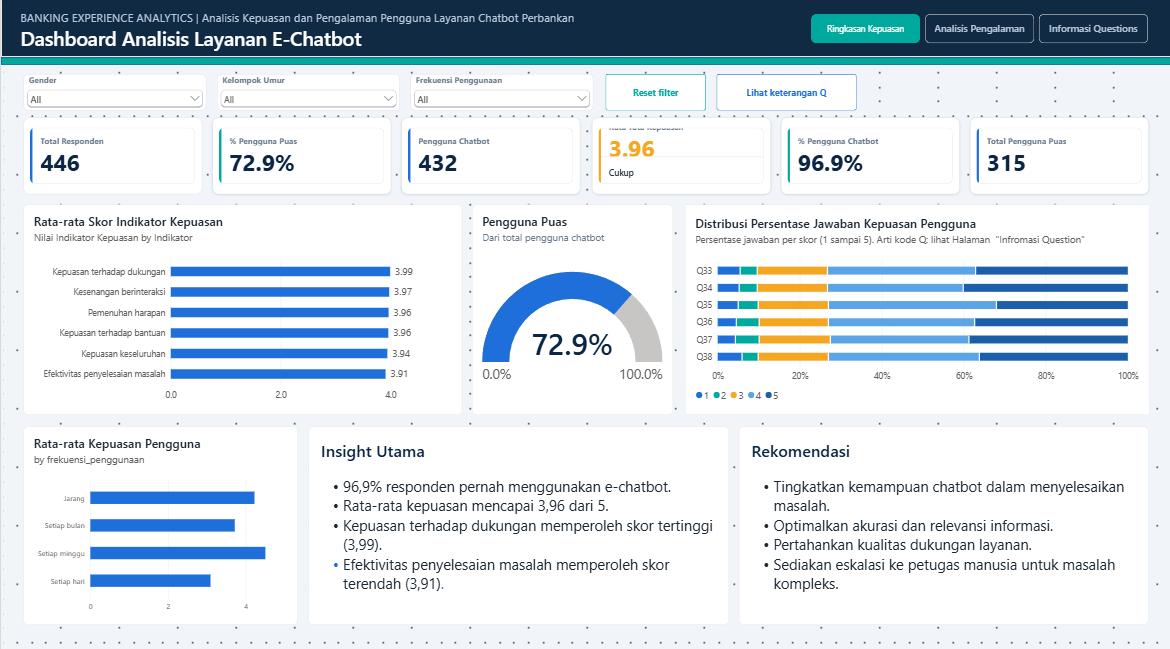

The dashboard page shown, as its layout file describes it:
{"tool":"powerbi","page":{"name":"Ringkasan Kepuasan","canvas":[1920,1080],"ordinal":0},"visuals":[{"type":"cardVisual","fields":{"Data":["survey_responden.Total Responden"]},"box":[36,194,293,126],"z":0},{"type":"cardVisual","fields":{"Data":["survey_responden.Persentase Pengguna Chatbot"]},"box":[1280,194,293,126],"z":1000},{"type":"cardVisual","fields":{"Data":["survey_responden.Total Pengguna Chatbot"]},"box":[658,194,293,126],"z":2000},{"type":"cardVisual","fields":{"Data":["survey_responden.Persentase Pengguna Puas"]},"box":[347,194,293,126],"z":3000},{"type":"cardVisual","fields":{"Data":["survey_responden.Total Pengguna Puas"]},"box":[1591,194,293,126],"z":4000},{"type":"cardVisual","fields":{"Data":["survey_responden.Rata-rata Kepuasan Pengguna"]},"box":[969,194,293,126],"z":5000},{"type":"clusteredBarChart","title":"Rata-rata Skor Indikator Kepuasan","fields":{"Category":["Dim Indikator Kepuasan.Indikator"],"Y":["Dim Indikator Kepuasan.Nilai Indikator Kepuasan"]},"box":[36,338,720,345],"z":6000},{"type":"hundredPercentStackedBarChart","title":"Distribusi Persentase Jawaban Kepuasan Pengguna","fields":{"Category":["distribusi_kepuasan.Indikator"],"Series":["distribusi_kepuasan.Skor"],"Y":["distribusi_kepuasan.Jumlah Jawaban"]},"box":[1122,338,762,345],"z":7000},{"type":"slicer","fields":{"Values":["survey_responden.kelompuk_umur"]},"box":[355.1,122.7,300,60],"z":8000},{"type":"slicer","fields":{"Values":["survey_responden.gender"]},"box":[37.1,122.7,300,60],"z":9000},{"type":"slicer","fields":{"Values":["survey_responden.frekuensi_penggunaan"]},"box":[673.1,122.7,300,60],"z":10000},{"type":"shape","title":"hdr_latar","box":[0,0,1920,96],"z":11000},{"type":"textbox","box":[32,16,1312,96],"z":12000},{"type":"textbox","box":[504,701,690,325],"z":13000},{"type":"textbox","box":[1212,701,672,325],"z":14000},{"type":"shape","title":"hdr_garis","box":[0,96,1920,12],"z":15000},{"type":"actionButton","box":[991.1,122.7,165,60],"z":16000},{"type":"gauge","title":"Pengguna Puas","fields":{"Y":["survey_responden.Persentase Pengguna Puas"]},"box":[774,338,330,345],"z":17000},{"type":"clusteredBarChart","fields":{"Category":["survey_responden.frekuensi_penggunaan"],"Y":["survey_responden.Rata-rata Kepuasan Pengguna"]},"box":[36,701,450,325],"z":18000},{"type":"pageNavigator","box":[1330,24,554,48],"z":19000},{"type":"actionButton","box":[1173,122,230,60],"z":20000}]}

Visuals, with their boxes in screenshot pixels (x1, y1, x2, y2), scaled from the page's 1920x1080 canvas onto the 1170x649 screenshot:
cardVisual - survey_responden.Total Responden: (left=22, top=117, right=200, bottom=192)
cardVisual - survey_responden.Persentase Pengguna Chatbot: (left=780, top=117, right=959, bottom=192)
cardVisual - survey_responden.Total Pengguna Chatbot: (left=401, top=117, right=580, bottom=192)
cardVisual - survey_responden.Persentase Pengguna Puas: (left=211, top=117, right=390, bottom=192)
cardVisual - survey_responden.Total Pengguna Puas: (left=970, top=117, right=1148, bottom=192)
cardVisual - survey_responden.Rata-rata Kepuasan Pengguna: (left=590, top=117, right=769, bottom=192)
"Rata-rata Skor Indikator Kepuasan" clusteredBarChart: (left=22, top=203, right=461, bottom=410)
"Distribusi Persentase Jawaban Kepuasan Pengguna" hundredPercentStackedBarChart: (left=684, top=203, right=1148, bottom=410)
slicer - survey_responden.kelompuk_umur: (left=216, top=74, right=399, bottom=110)
slicer - survey_responden.gender: (left=23, top=74, right=205, bottom=110)
slicer - survey_responden.frekuensi_penggunaan: (left=410, top=74, right=593, bottom=110)
"hdr_latar" shape: (left=0, top=0, right=1169, bottom=58)
textbox: (left=20, top=10, right=819, bottom=67)
textbox: (left=307, top=421, right=728, bottom=617)
textbox: (left=739, top=421, right=1148, bottom=617)
"hdr_garis" shape: (left=0, top=58, right=1169, bottom=65)
actionButton: (left=604, top=74, right=704, bottom=110)
"Pengguna Puas" gauge: (left=472, top=203, right=673, bottom=410)
clusteredBarChart - survey_responden.frekuensi_penggunaan x survey_responden.Rata-rata Kepuasan Pengguna: (left=22, top=421, right=296, bottom=617)
pageNavigator: (left=810, top=14, right=1148, bottom=43)
actionButton: (left=715, top=73, right=855, bottom=109)
